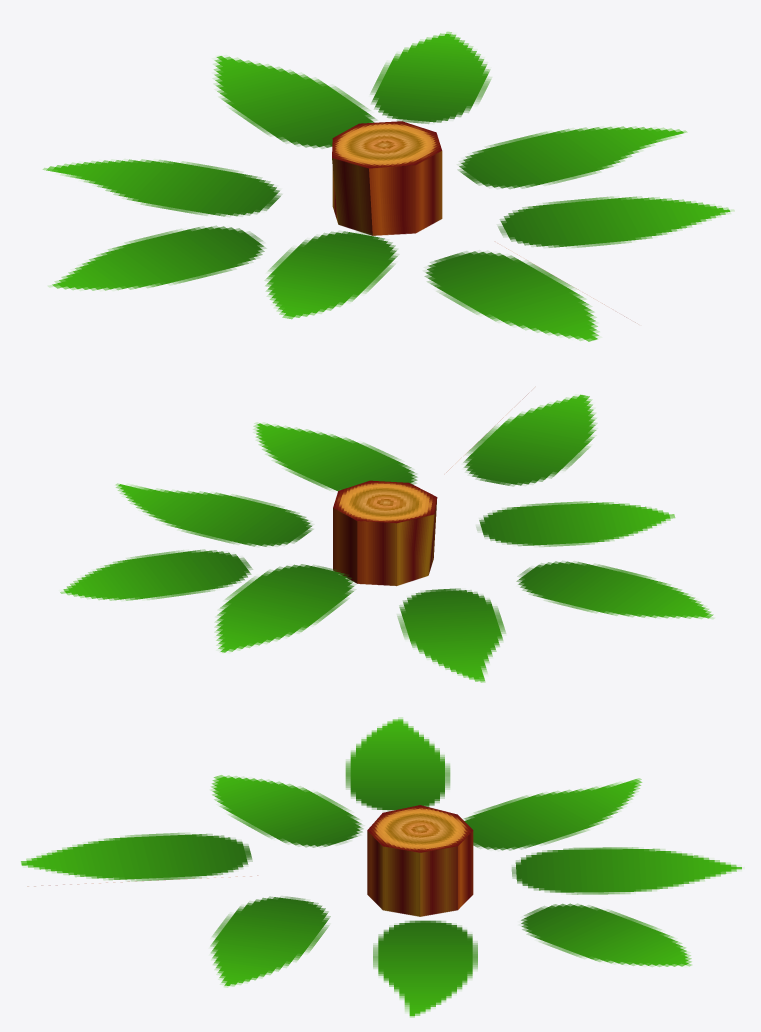
The model's file is BushBottom.glb.
3 views of the same model, one above another, from view 1: azimuth 30°, elevation 25°; view 2: azimuth 150°, elevation 25°; view 3: azimuth 270°, elevation 25° (orthographic). The views are drawn at different scales.
Parts seen in each view (by area): view 1: BushBottom; view 2: BushBottom; view 3: BushBottom.
Boxes of the visible parts, x1,y1,x2,y2 form: BushBottom: (43,32,734,341); BushBottom: (60,393,713,682); BushBottom: (21,717,741,1017).
Size of the model in its own units: 1.98 by 0.2 by 2.07.
Materials: 1 (1 with a texture image).
